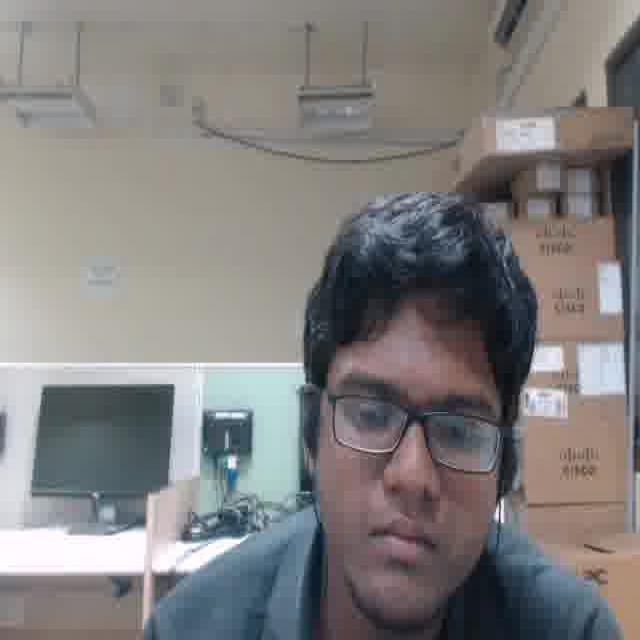Engaged: (321, 303, 498, 605)
